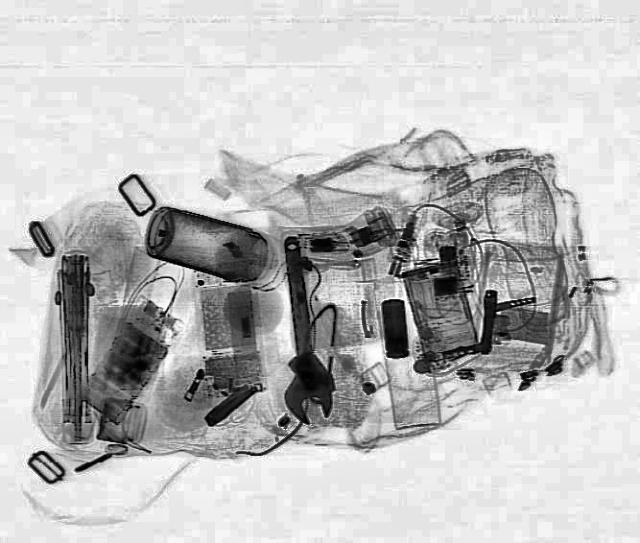Wrench: (262, 232, 341, 425)
